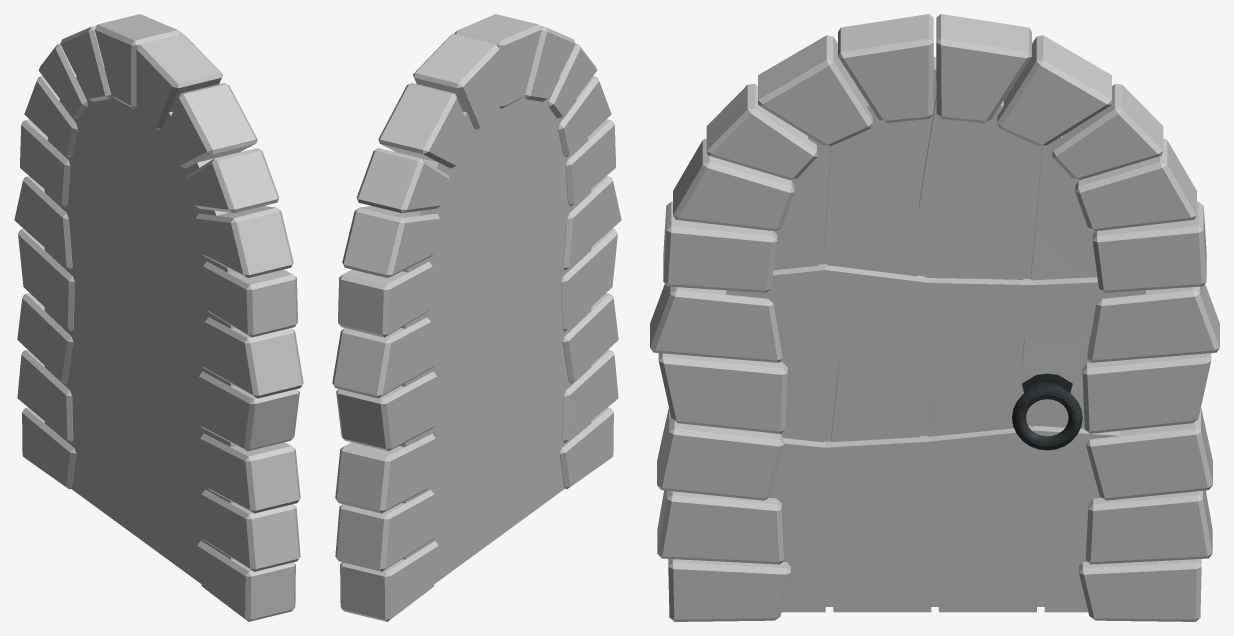
Rendered from kap.fbx.
The picture shows the model from 3 angles, left to right: view 1: azimuth 30°, elevation 25°; view 2: azimuth 150°, elevation 25°; view 3: azimuth 270°, elevation 25°; orthographic projection. The views are drawn at different scales.
Visible parts, largest first — view 1: kapı_tas, kapı1; view 2: kapı_tas, kapı1; view 3: kapı_tas, kapı2, kapı_tahta, kapı1, tutacak.
Boxes of the visible parts, x1,y1,x2,y2 form: kapı_tas: (14,14,303,621); kapı1: (44,67,236,583); kapı_tas: (332,14,621,621); kapı1: (399,67,591,583); kapı_tas: (650,14,1219,621); kapı2: (769,94,1101,612); kapı_tahta: (726,264,1145,500); kapı1: (817,57,1044,606); tutacak: (1012,373,1082,450).
Size of the model in its own units: 29.63 by 262 by 232.
